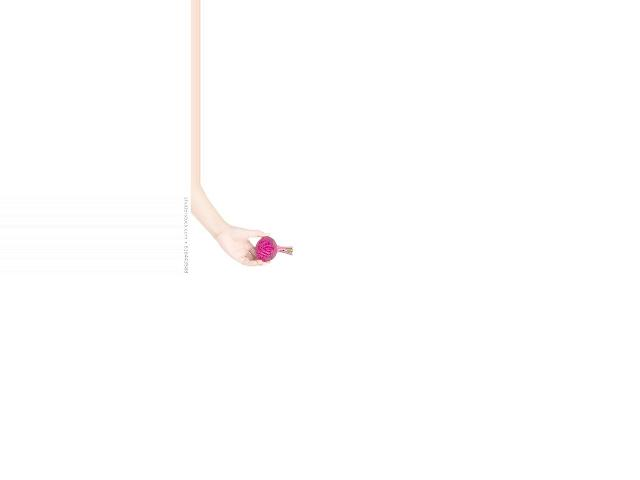beet: (255, 236, 293, 262)
